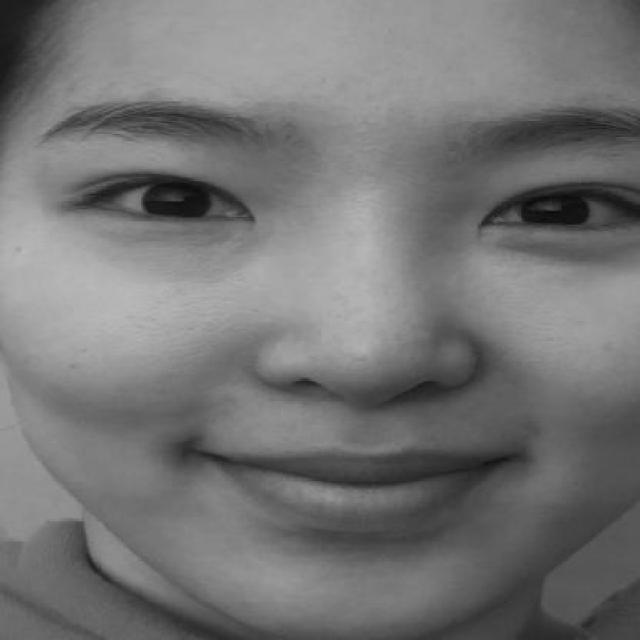happy: (41, 83, 640, 546)
